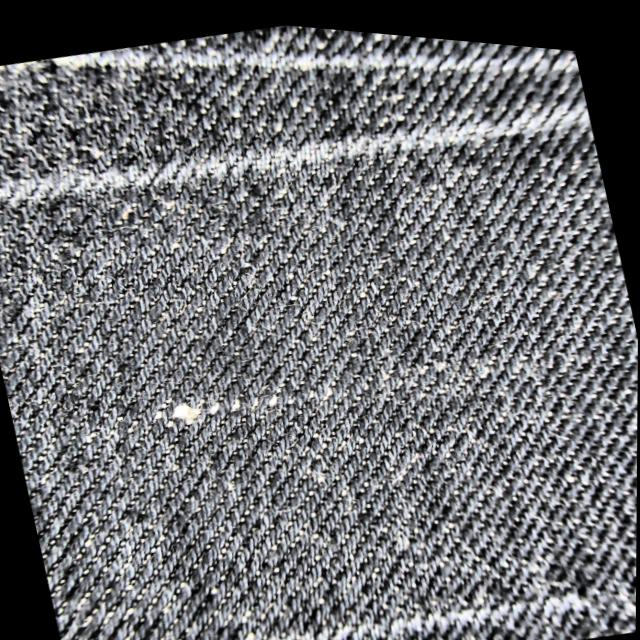Stitch: (147, 331, 401, 450)
